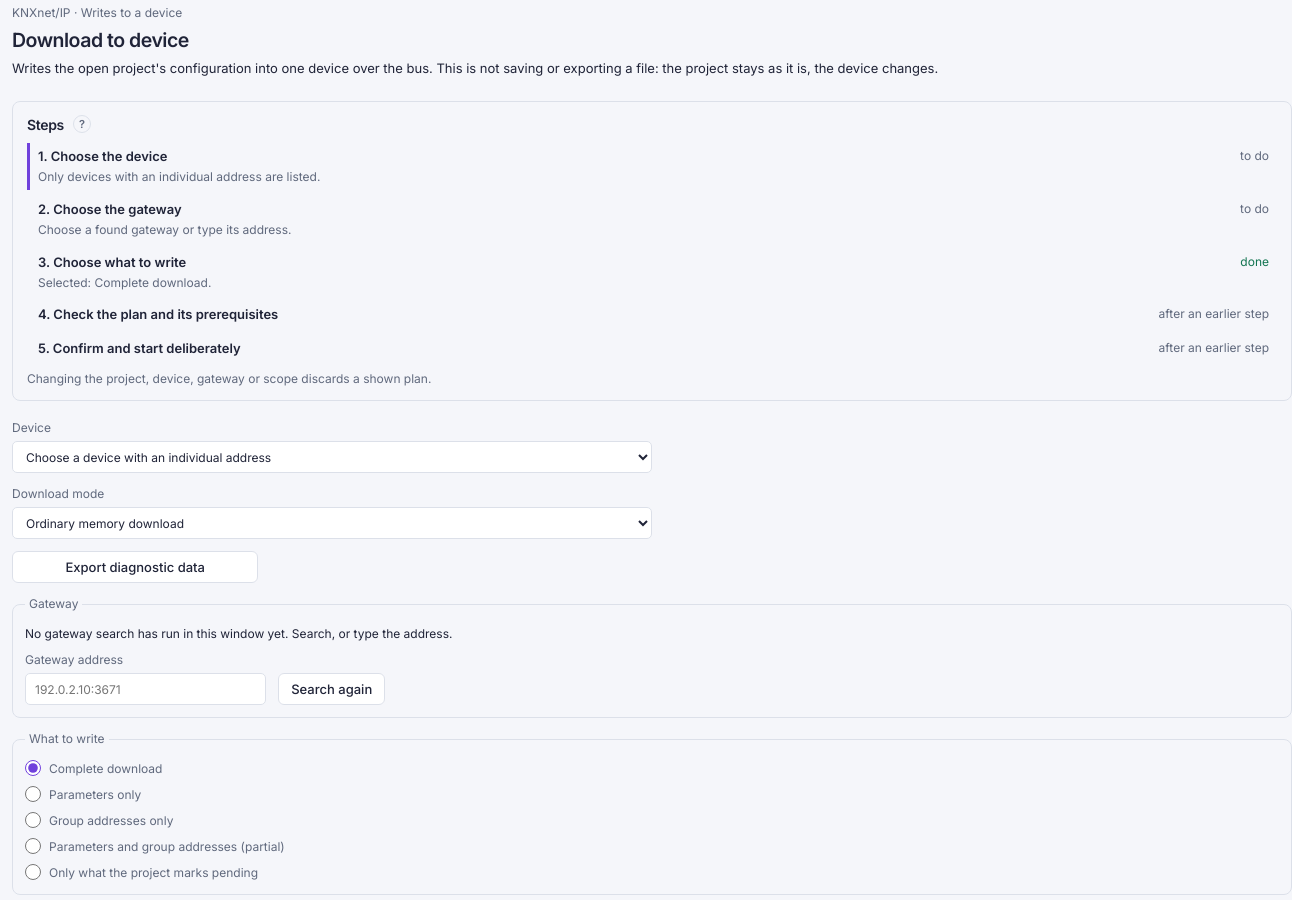
treats a malformed nothing-pending answer as a refusal, never as fully programmed
Select "1.1.67 — Push button 2-fold" in the dropdown labelled "Device" at [332, 457], box [12,441,652,473]
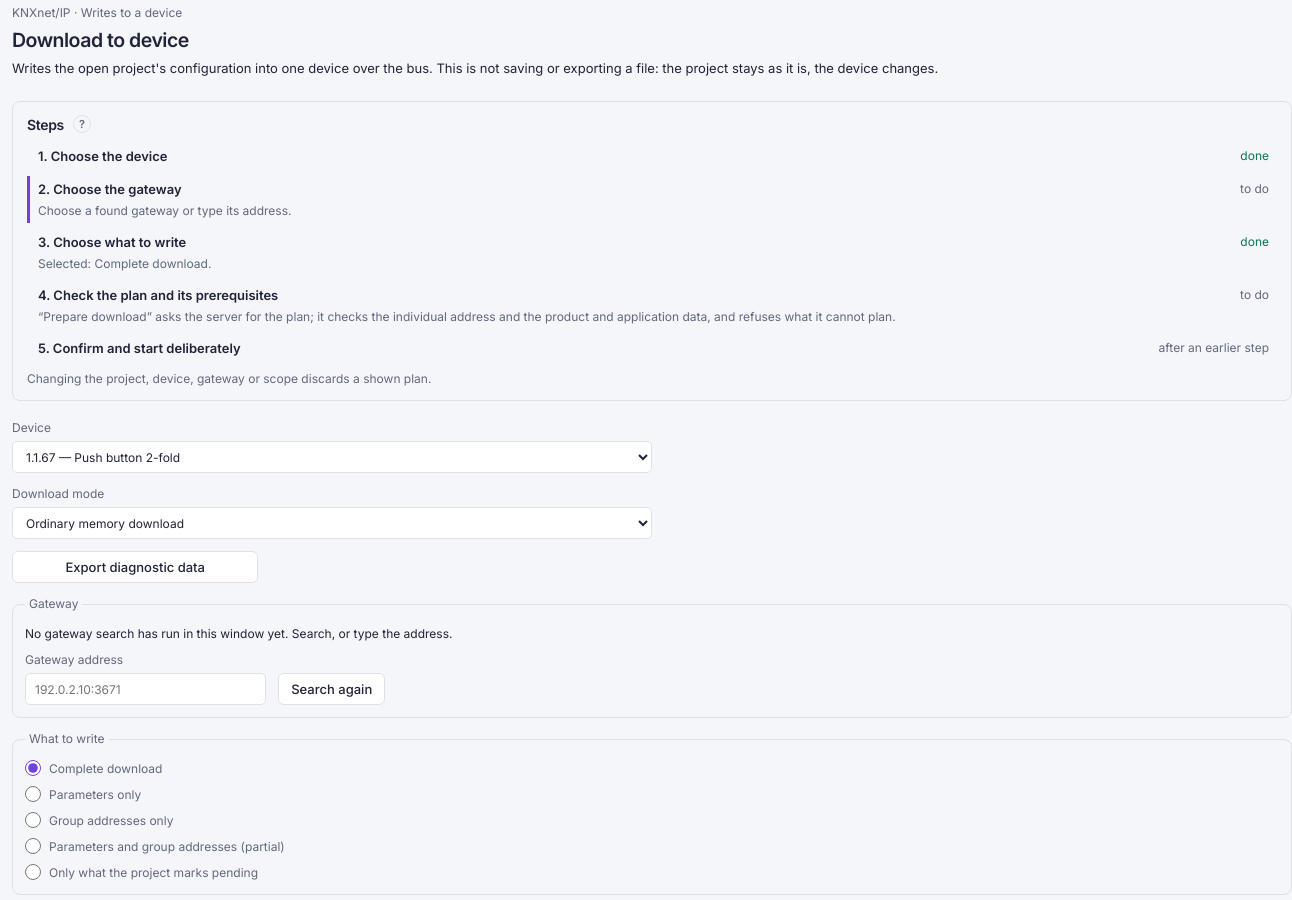
Click the radio button labelled "Only what the project marks pending" at [33, 872], box [25,864,41,880]
(page scrolled)
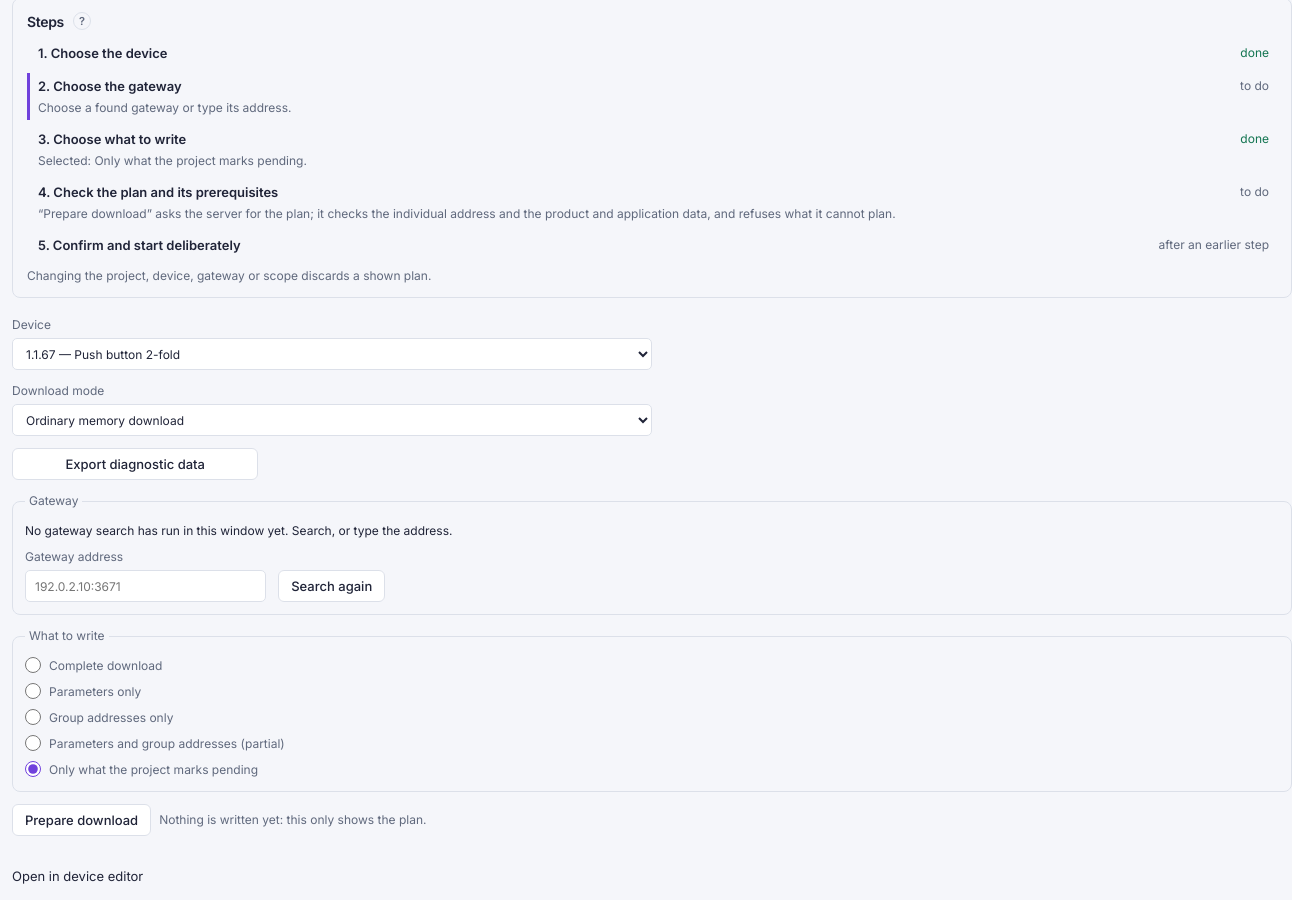
Click the button "Prepare download" at [82, 820], box [12,804,151,836]
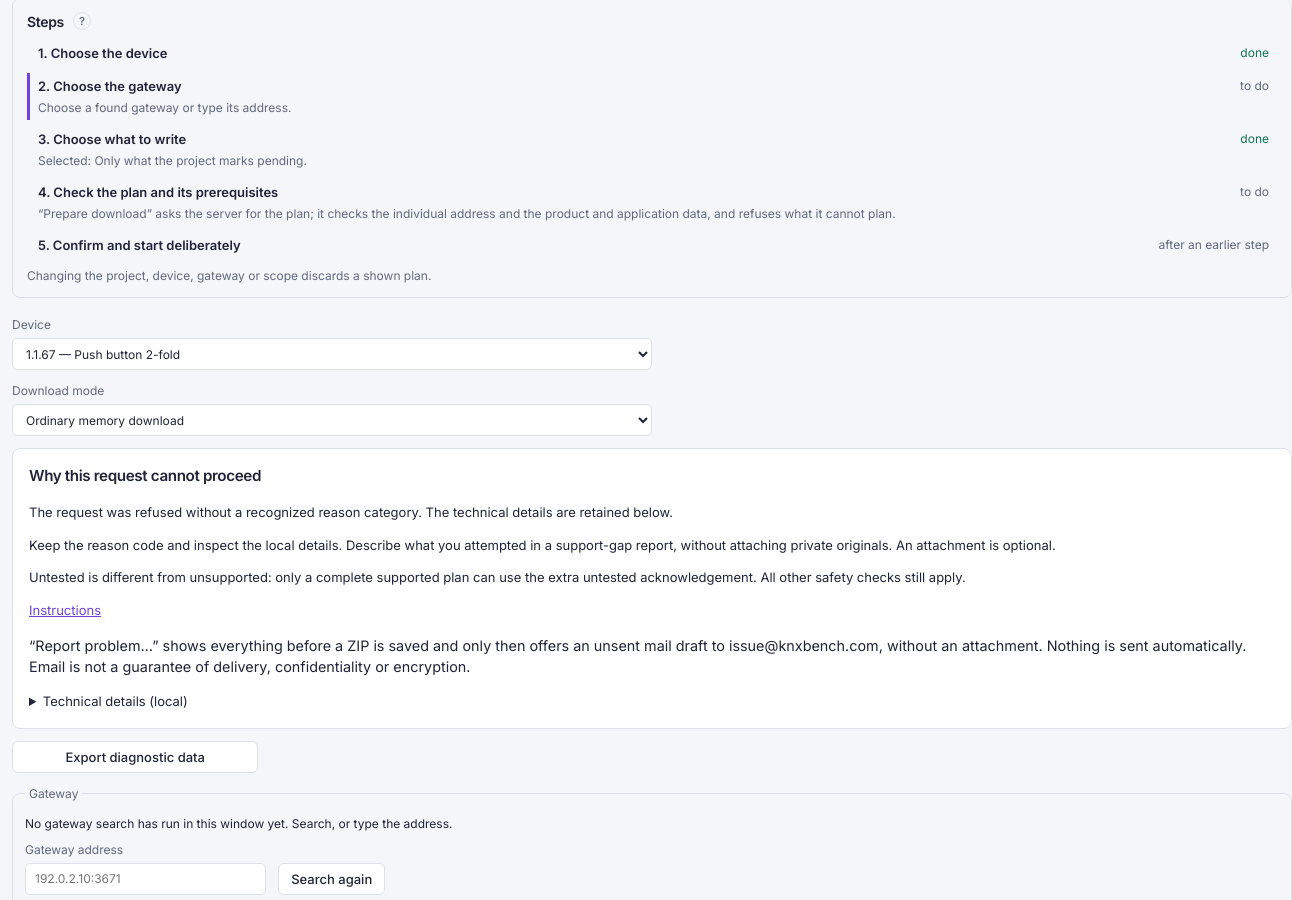
Expected: the message with class "download-support-notice" is shown, [12,448,1291,729]
